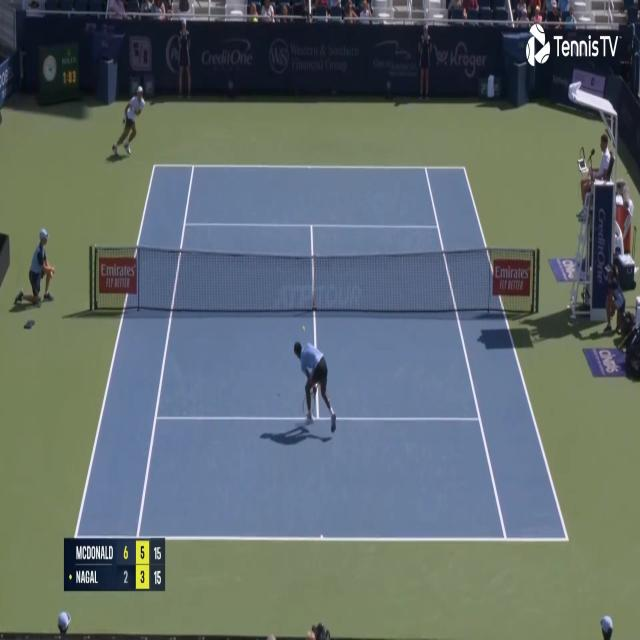tennis-player: (292, 337, 341, 439), (109, 80, 148, 159)
